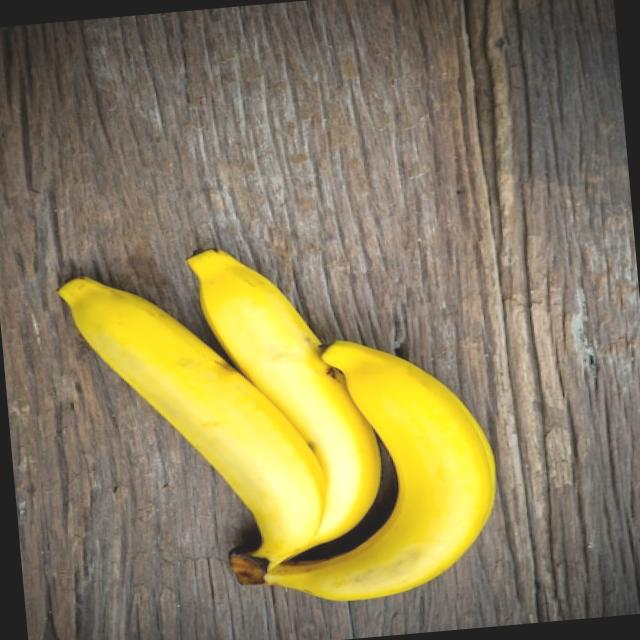Platano: (46, 220, 515, 630)
